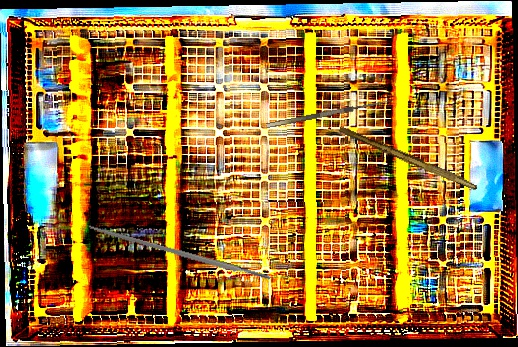Hook Surgical: (265, 91, 393, 129)
Scalpel Handle: (87, 223, 272, 283), (337, 125, 480, 191)
